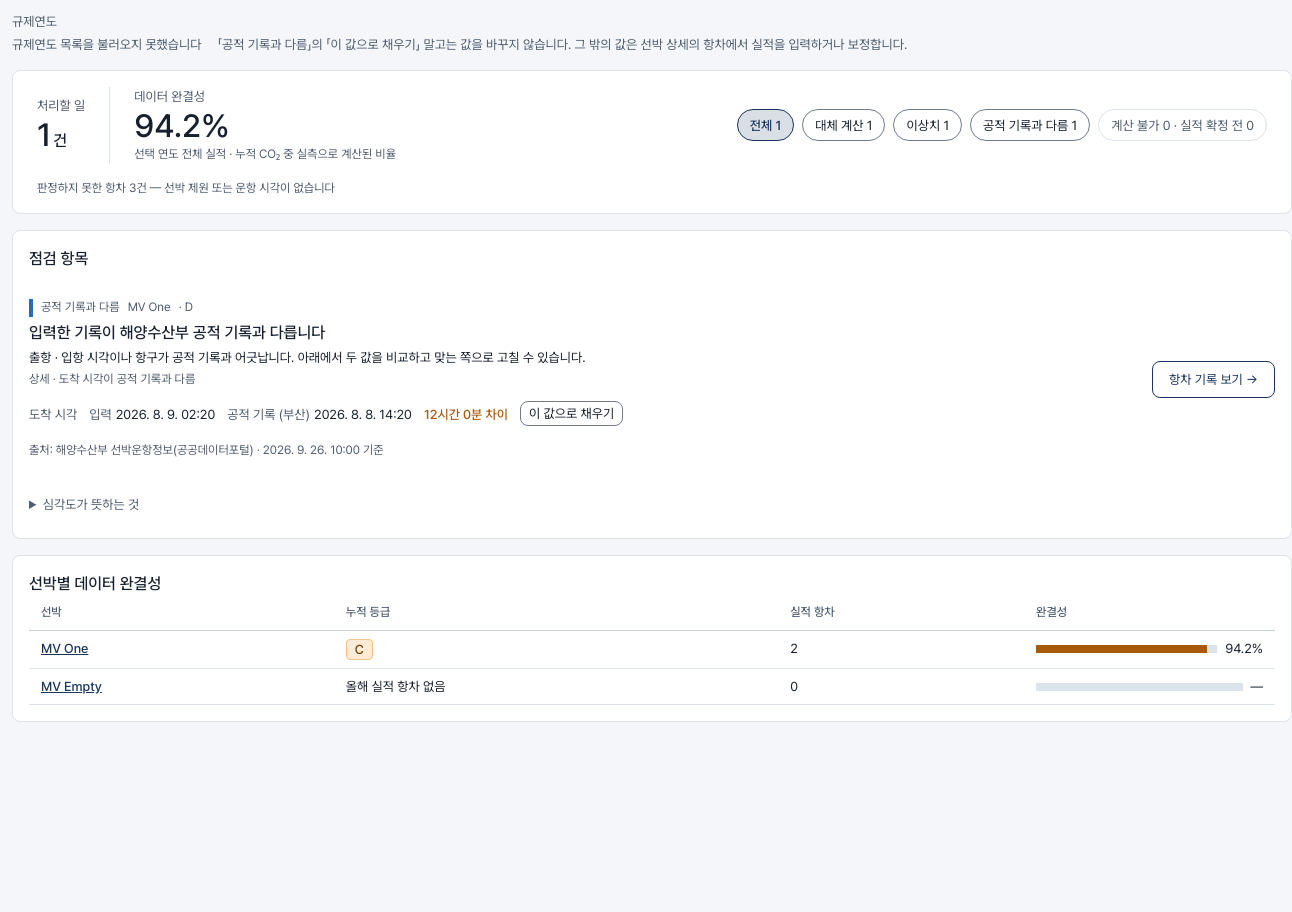
Scenario: 이 값으로 채우기 (#1923) › 완료 항차는 누르면 그 칸 하나를 되돌림 동의 없이 보내고, 다시 불러온다
The image size is (1292, 912).
Check: the heading "점검 항목" is shown, box [29, 249, 88, 268]
Click the button "이 값으로 채우기" at (572, 413), box [520, 401, 623, 426]
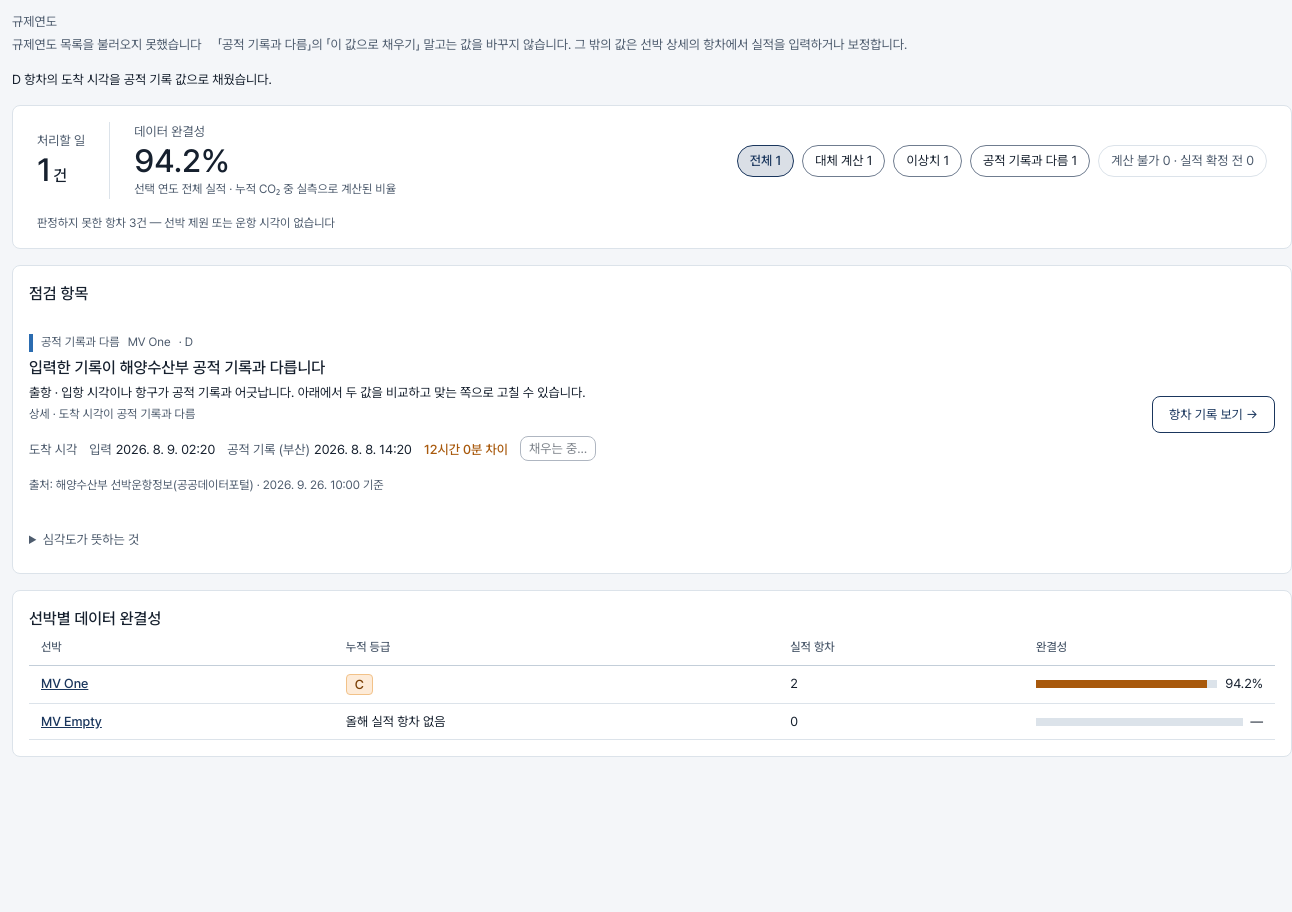
Check: the message "D 항차의 도착 시각을 공적 기록 값으로 채웠습니다." is shown, box [12, 72, 272, 87]
